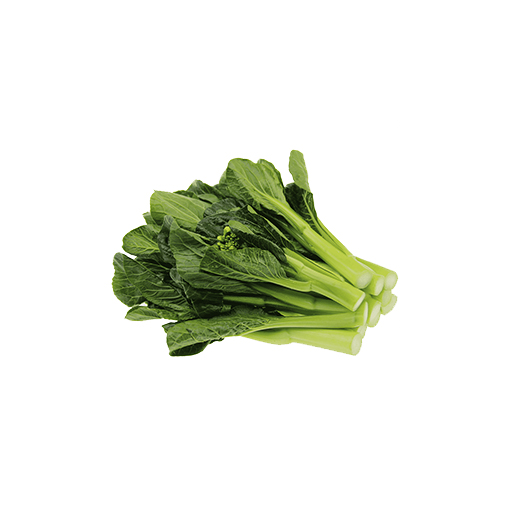Sawi: (128, 136, 414, 391)
